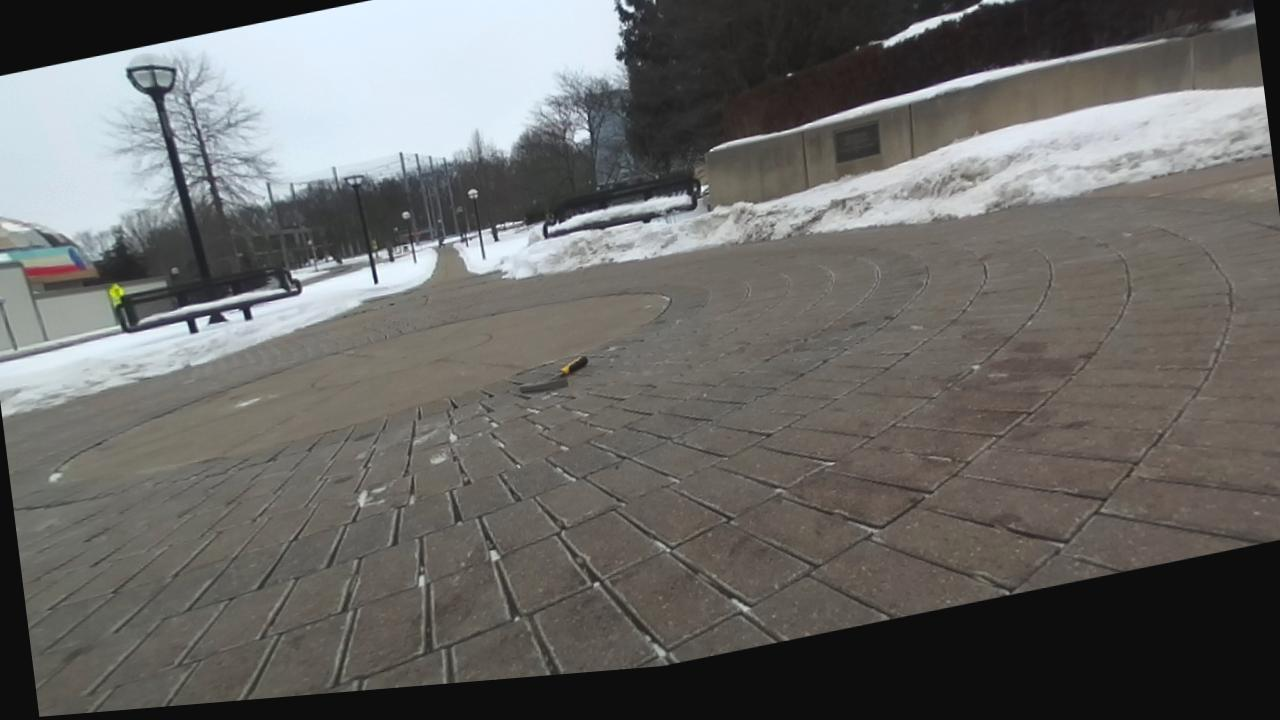pick: (521, 357, 587, 393)
